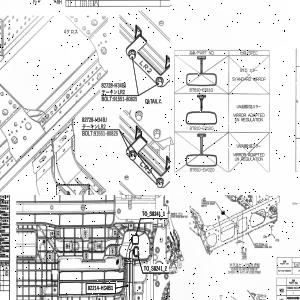PartNumber: (101, 82, 127, 88), (87, 285, 113, 291), (113, 96, 138, 102), (82, 116, 107, 122), (94, 131, 118, 137), (189, 167, 215, 172), (189, 126, 214, 131), (189, 87, 214, 92), (278, 269, 291, 273), (287, 286, 300, 290), (287, 296, 299, 300)
